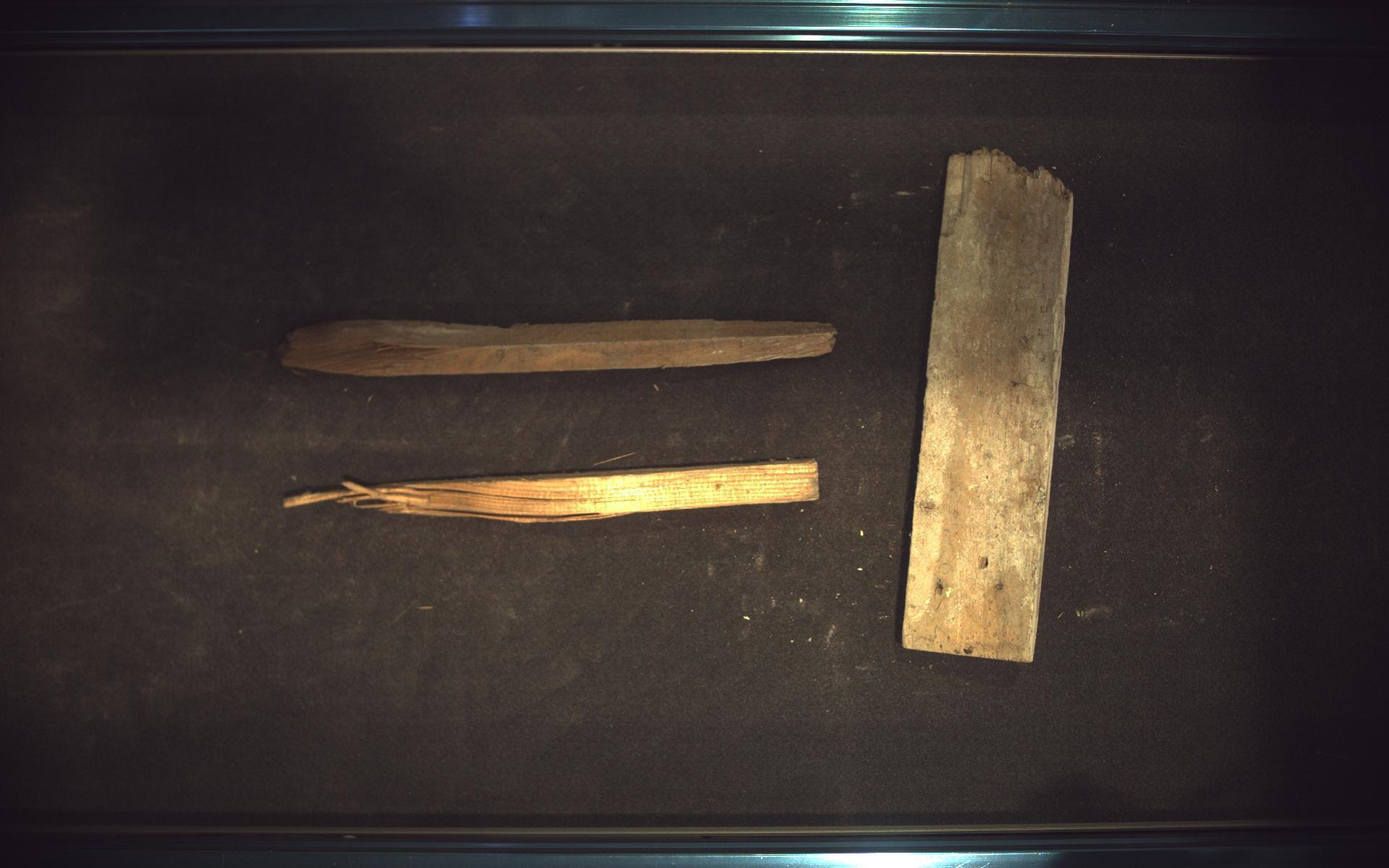wood: (904, 148, 1076, 663), (283, 459, 820, 524), (279, 319, 837, 376)
